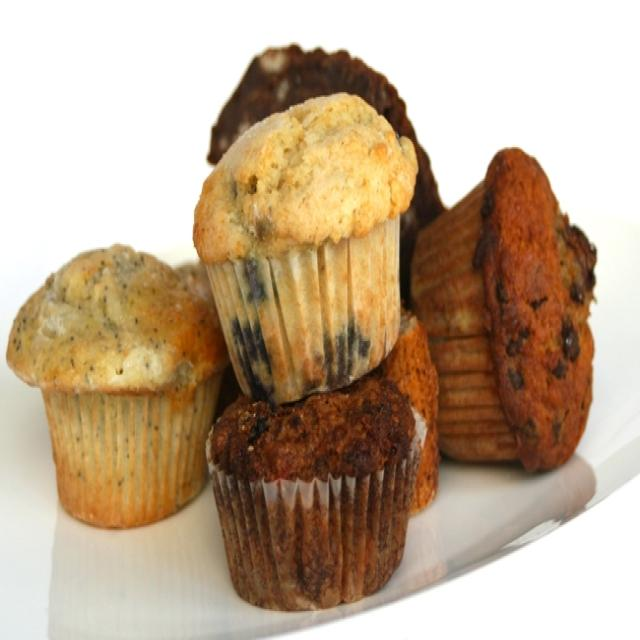炸货点心: (5, 42, 606, 592)
面包点心: (5, 42, 606, 592)
